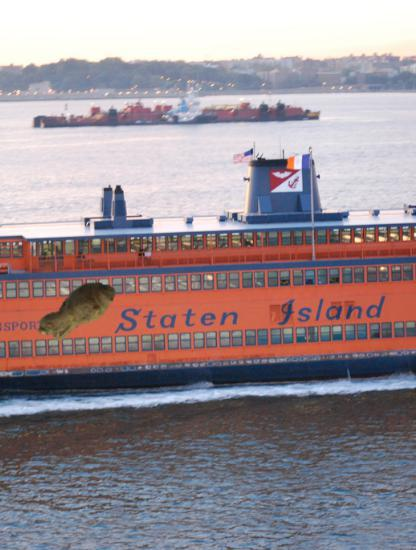Ginger: (32, 266, 122, 356)
